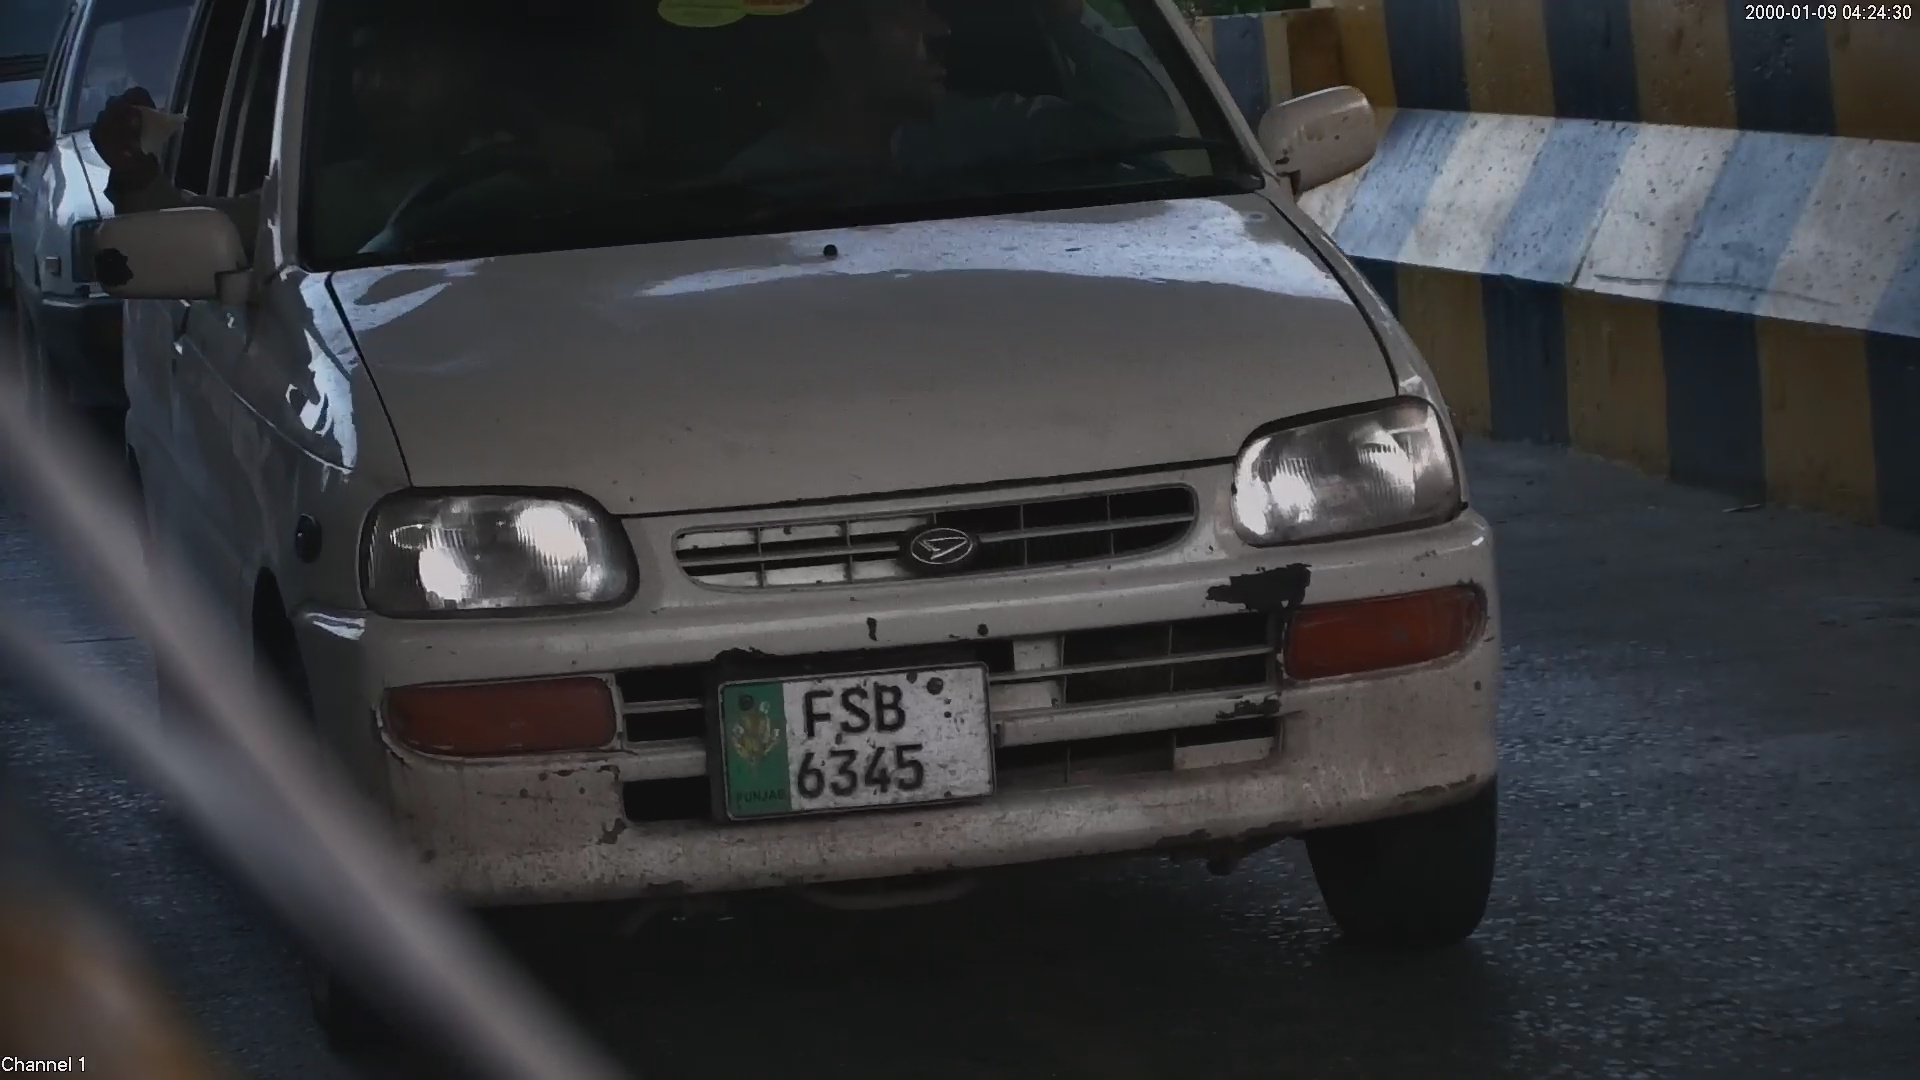Number_Plate: (695, 655, 1004, 820)
Undefined: (373, 496, 608, 609), (1241, 412, 1447, 536), (376, 670, 621, 759), (1289, 601, 1493, 668), (900, 520, 982, 575)
